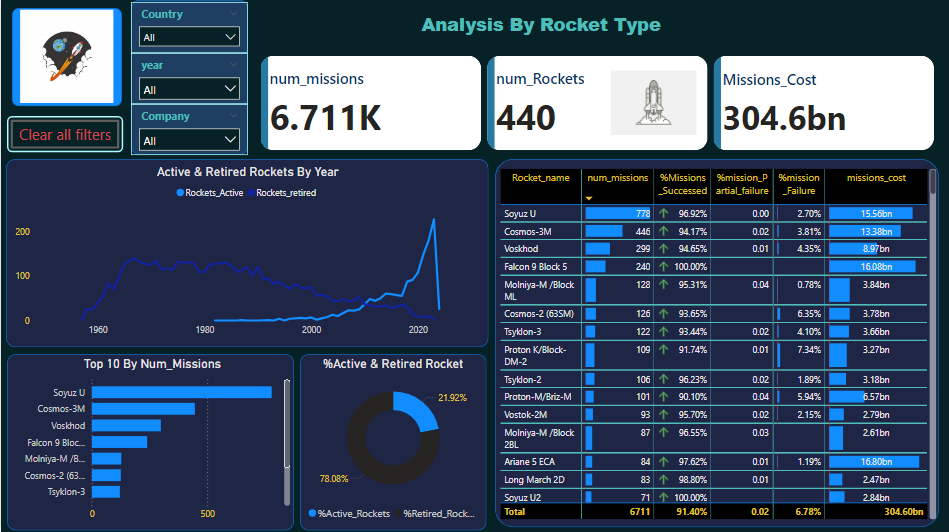

The dashboard page shown, as its layout file describes it:
{"tool":"powerbi","page":{"name":"Rocket_Analysis","canvas":[1280,720],"ordinal":4},"visuals":[{"type":"shape","box":[176.1,0,158.2,209],"z":0},{"type":"shape","box":[14.3,11.4,148.6,132.9],"z":1000},{"type":"shape","box":[668.2,215.3,600,497.6],"z":2000},{"type":"shape","box":[7.1,215,652.1,254.3],"z":3000},{"type":"shape","box":[7.9,477.9,387.9,238.6],"z":4000},{"type":"shape","box":[404.3,477.9,252.1,238.6],"z":5000},{"type":"textbox","box":[514.3,11.4,430,45.7],"z":6000},{"type":"cardVisual","fields":{"Data":["KPIs.num_missions","KPIs.num_Rockets","KPIs.missions_cost"]},"box":[346.3,70.1,922.4,138.8],"z":7000},{"type":"clusteredBarChart","title":"Top 10 By Num_Missions","fields":{"Category":["Rocket_Dim.Rocket_name"],"Y":["KPIs.num_missions"]},"box":[13.6,481.4,382.1,231.4],"z":8000},{"type":"donutChart","title":"%Active & Retired Rocket ","fields":{"Y":["KPIs.%Active_Rockets","KPIs.%Retired_Rockets"]},"box":[407.1,481.4,246.4,231.4],"z":9000},{"type":"lineChart","title":"Active & Retired Rockets By Year","fields":{"Category":["Date_Launch_Dim.year"],"Y":["KPIs.Rockets_Active","KPIs.Rockets_retired"]},"box":[13.6,222.1,640,242.1],"z":10000},{"type":"tableEx","fields":{"Values":["Rocket_Dim.Rocket_name","KPIs.num_missions","KPIs.%Missions_Successed","KPIs.%mission_Partial_failure","KPIs.%mission_Failure","KPIs.missions_cost"]},"box":[668.7,222.4,600,483.6],"z":11000},{"type":"image","box":[14.3,8.6,148.6,135.7],"z":12000},{"type":"image","box":[818.6,82.9,125.7,112.9],"z":13000},{"type":"actionButton","box":[7.5,156.7,156.7,49.3],"z":14000},{"type":"slicer","fields":{"Values":["Company_Dim.Company"]},"box":[176.1,140.3,158.2,68.7],"z":15000},{"type":"slicer","fields":{"Values":["Location_Dim.Country"]},"box":[176.1,3,158.2,68.7],"z":16000},{"type":"slicer","fields":{"Values":["Date_Launch_Dim.year"]},"box":[176.1,71.6,158.2,68.7],"z":17000}]}

Visuals, with their boxes in screenshot pixels (x1, y1, x2, y2), scaled from the page's 1280x720 canvas onto the 949x532 screenshot:
shape: detection(131, 0, 248, 154)
shape: detection(11, 8, 121, 107)
shape: detection(495, 159, 940, 527)
shape: detection(5, 159, 489, 347)
shape: detection(6, 353, 293, 529)
shape: detection(300, 353, 487, 529)
textbox: detection(381, 8, 700, 42)
cardVisual - KPIs.num_missions x KPIs.num_Rockets: detection(257, 52, 941, 154)
"Top 10 By Num_Missions" clusteredBarChart: detection(10, 356, 293, 527)
"%Active & Retired Rocket " donutChart: detection(302, 356, 485, 527)
"Active & Retired Rockets By Year" lineChart: detection(10, 164, 485, 343)
tableEx - Rocket_Dim.Rocket_name x KPIs.num_missions: detection(496, 164, 941, 522)
image: detection(11, 6, 121, 107)
image: detection(607, 61, 700, 145)
actionButton: detection(6, 116, 122, 152)
slicer - Company_Dim.Company: detection(131, 104, 248, 154)
slicer - Location_Dim.Country: detection(131, 2, 248, 53)
slicer - Date_Launch_Dim.year: detection(131, 53, 248, 104)
